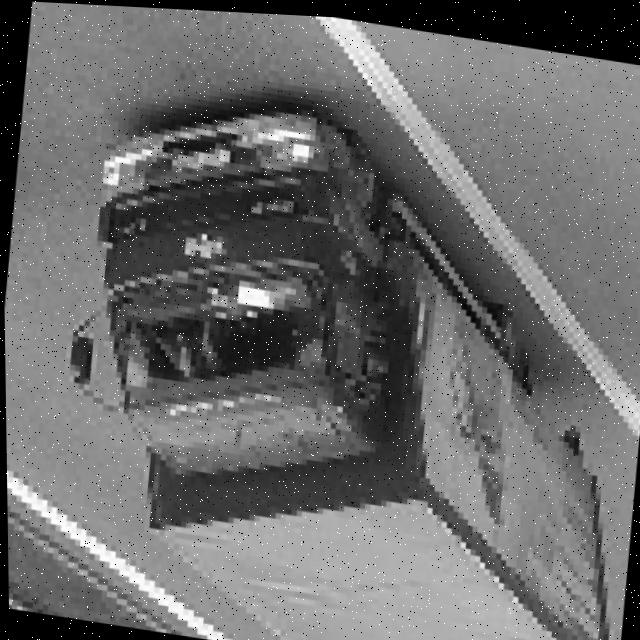truck: (42, 68, 452, 520)
